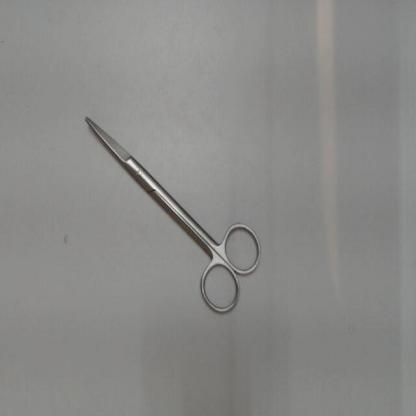Curved Mayo Scissors: (81, 110, 266, 324)
